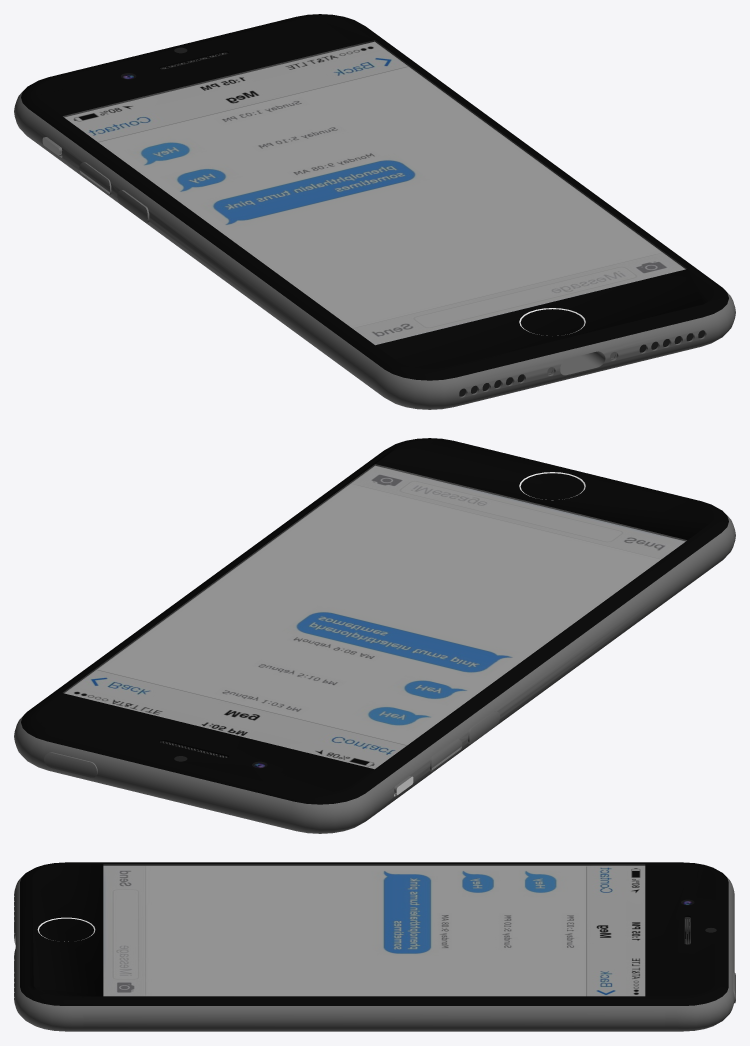
The picture shows the model from 3 angles, top to bottom: view 1: azimuth 30°, elevation 25°; view 2: azimuth 150°, elevation 25°; view 3: azimuth 270°, elevation 25°; orthographic projection. The views are drawn at different scales.
Visible parts, largest first — view 1: object.008_glass_0, object.002_scr_0, object.000_Material.001_0, object.000_bod_0, object.009_misc1_0; view 2: object.008_glass_0, object.002_scr_0, object.000_Material.001_0, object.000_bod_0; view 3: object.002_scr_0, object.008_glass_0, object.000_Material.001_0, object.000_bod_0.
Boxes of the visible parts, left/top/right/bottom form: object.008_glass_0: left=63, top=40, right=686, bottom=344; object.002_scr_0: left=64, top=41, right=685, bottom=344; object.000_Material.001_0: left=21, top=14, right=728, bottom=380; object.000_bod_0: left=14, top=40, right=735, bottom=409; object.009_misc1_0: left=121, top=47, right=704, bottom=396; object.008_glass_0: left=63, top=464, right=686, bottom=768; object.002_scr_0: left=64, top=465, right=685, bottom=768; object.000_Material.001_0: left=21, top=438, right=728, bottom=804; object.000_bod_0: left=14, top=456, right=735, bottom=833; object.002_scr_0: left=103, top=865, right=645, bottom=996; object.008_glass_0: left=103, top=864, right=644, bottom=995; object.000_Material.001_0: left=20, top=862, right=728, bottom=1005; object.000_bod_0: left=14, top=864, right=735, bottom=1031.
Bounding box in the file's own units: 67.53 × 8 × 139.
Materials: 12 (3 with a texture image).
